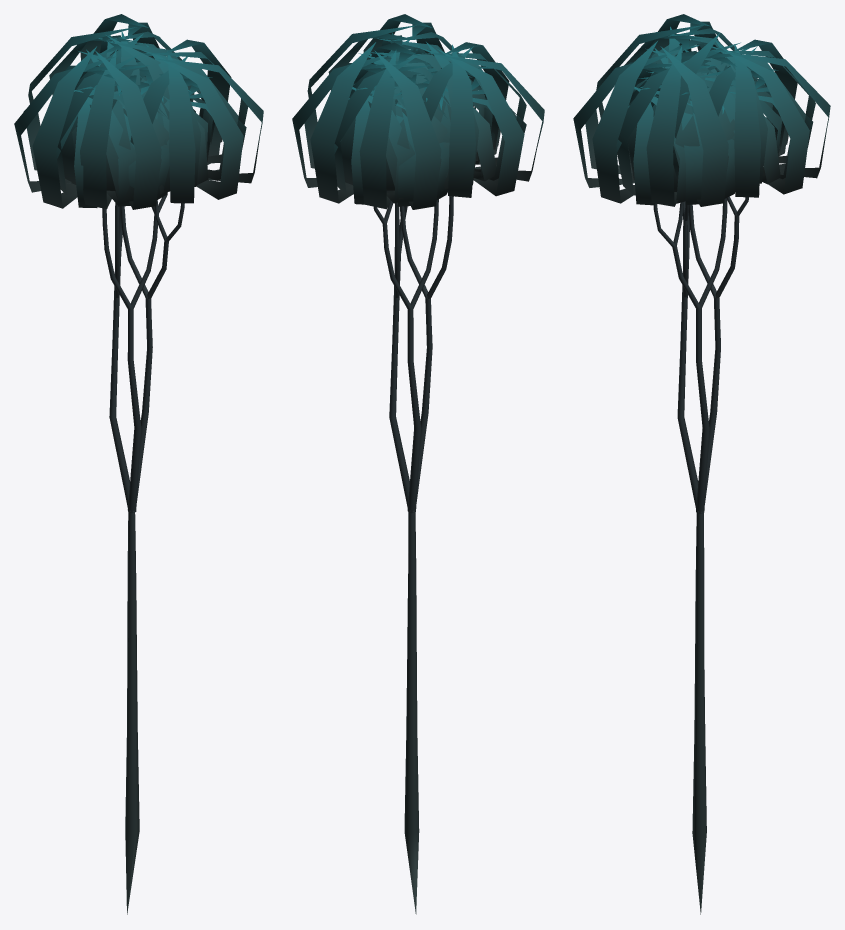
File: plants-flowers-teal-globe-flower_v2.fbx
3 views of the same model, side by side, from view 1: azimuth 30°, elevation 25°; view 2: azimuth 150°, elevation 25°; view 3: azimuth 270°, elevation 25° (orthographic).
Visible parts, largest first — view 1: Teal Globe Flower_v2; view 2: Teal Globe Flower_v2; view 3: Teal Globe Flower_v2.
Boxes of the visible parts, x1=… form: Teal Globe Flower_v2: x1=14, y1=14, x2=263, y2=914; Teal Globe Flower_v2: x1=292, y1=14, x2=544, y2=914; Teal Globe Flower_v2: x1=573, y1=14, x2=830, y2=914.
Size of the model in its own units: 0.1556 by 0.6 by 0.1591.
